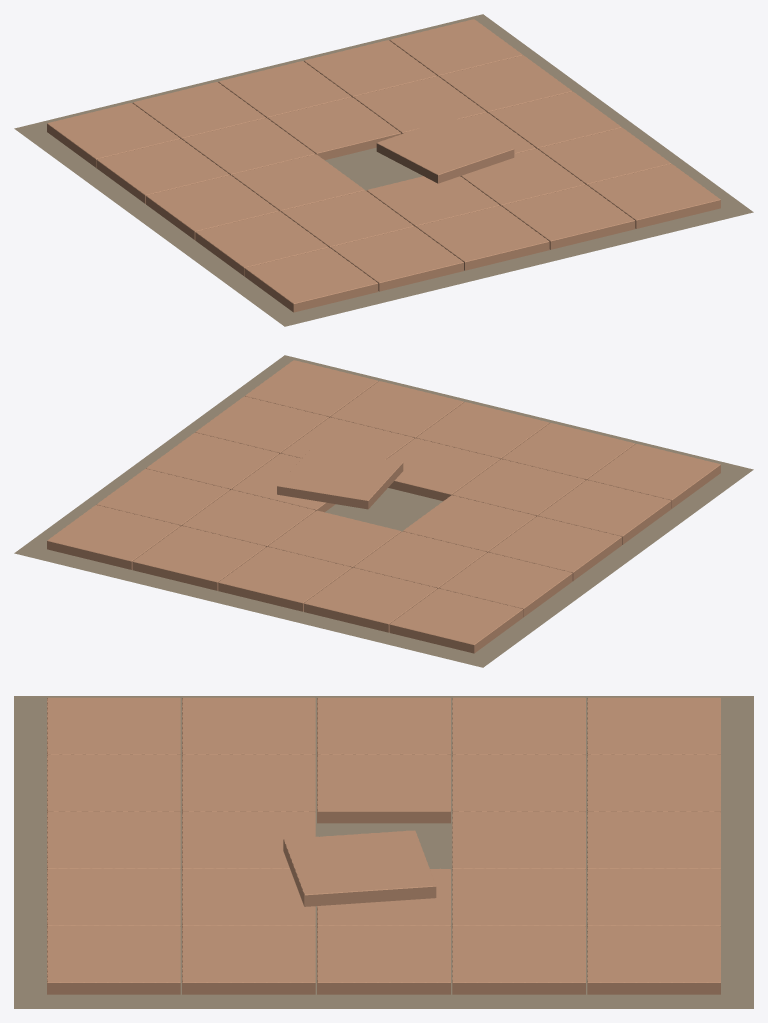
File: terilgan.glb
3 views of the same model, one above another, from view 1: azimuth 30°, elevation 25°; view 2: azimuth 150°, elevation 25°; view 3: azimuth 270°, elevation 25° (orthographic). The views are drawn at different scales.
Visible parts, largest first — view 1: qum, t.012, t, t.015, t.005, t.010, t.020, t.013, t.001, t.002, t.003, t.004 (+14 smaller); view 2: qum, t.004, t.012, t.019, t.009, t.014, t.024, t.002, t.003, t.001, t, t.006 (+14 smaller); view 3: qum, t.012, t.007, t.020, t.021, t.022, t.023, t.024, t, t.001, t.002, t.003 (+14 smaller).
Part boxes in pixels (bbox=[...]): qum: bbox=[14, 14, 753, 326]; t.012: bbox=[376, 117, 514, 183]; t: bbox=[244, 247, 378, 312]; t.015: bbox=[501, 185, 635, 249]; t.005: bbox=[330, 226, 463, 291]; t.010: bbox=[416, 205, 549, 270]; t.020: bbox=[587, 164, 720, 228]; t.013: bbox=[267, 97, 401, 159]; t.001: bbox=[195, 211, 328, 276]; t.002: bbox=[146, 175, 279, 239]; t.003: bbox=[96, 139, 229, 203]; t.004: bbox=[47, 103, 180, 167]; qum: bbox=[14, 355, 753, 667]; t.004: bbox=[389, 588, 523, 653]; t.012: bbox=[277, 447, 403, 509]; t.019: bbox=[132, 526, 266, 590]; t.009: bbox=[304, 567, 437, 632]; t.014: bbox=[218, 546, 351, 611]; t.024: bbox=[47, 505, 180, 569]; t.002: bbox=[488, 516, 621, 580]; t.003: bbox=[439, 552, 572, 617]; t.001: bbox=[538, 480, 671, 544]; t: bbox=[587, 444, 720, 508]; t.006: bbox=[452, 459, 585, 516]; qum: bbox=[14, 696, 753, 1008]; t.012: bbox=[283, 830, 436, 906]; t.007: bbox=[317, 754, 450, 823]; t.020: bbox=[47, 926, 180, 994]; t.021: bbox=[182, 926, 315, 994]; t.022: bbox=[317, 926, 450, 994]; t.023: bbox=[452, 926, 585, 994]; t.024: bbox=[587, 926, 720, 994]; t: bbox=[47, 697, 180, 754]; t.001: bbox=[182, 697, 315, 754]; t.002: bbox=[317, 697, 450, 754]; t.003: bbox=[452, 697, 585, 754].
Size of the model in its own units: 1.66 by 0.062 by 1.66.
